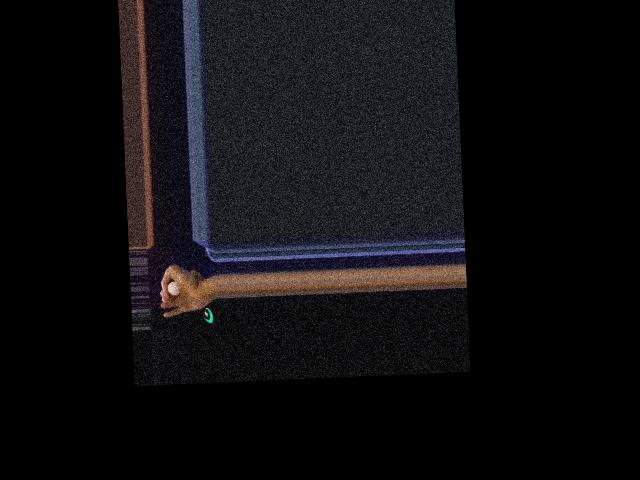egg: (167, 280, 179, 295)
